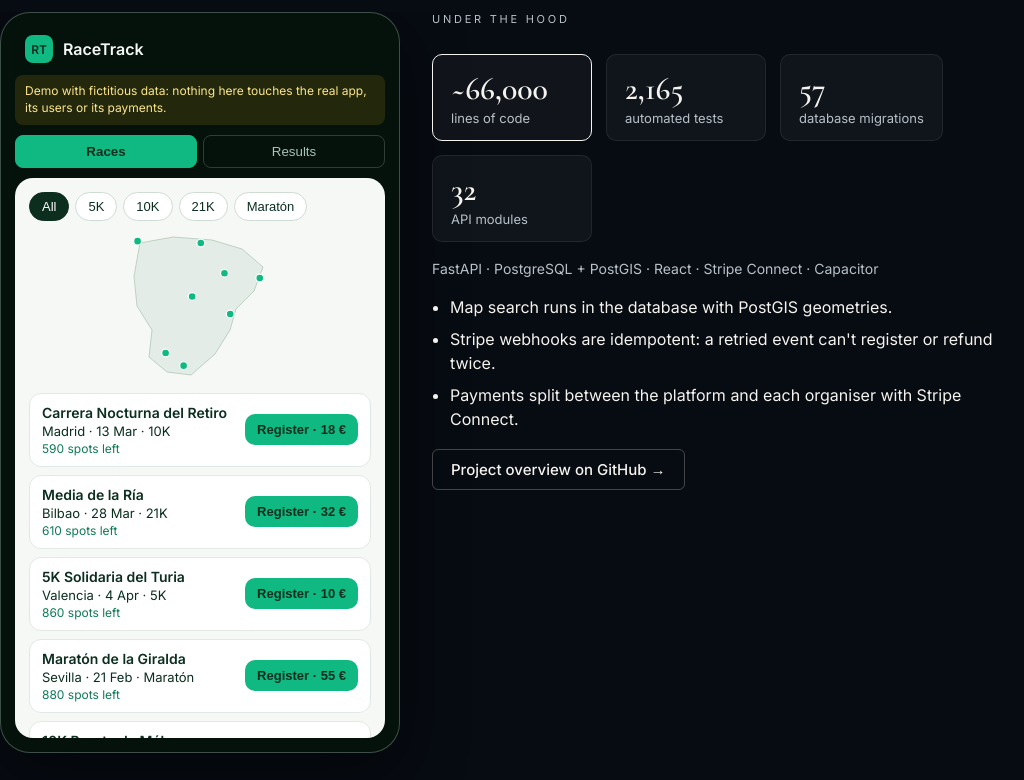
it: réplica de RaceTrack › no deja pagar sin nombre
Step 1. Click the button "Register · 18 €" → click(302, 430), box [245,414,358,445]
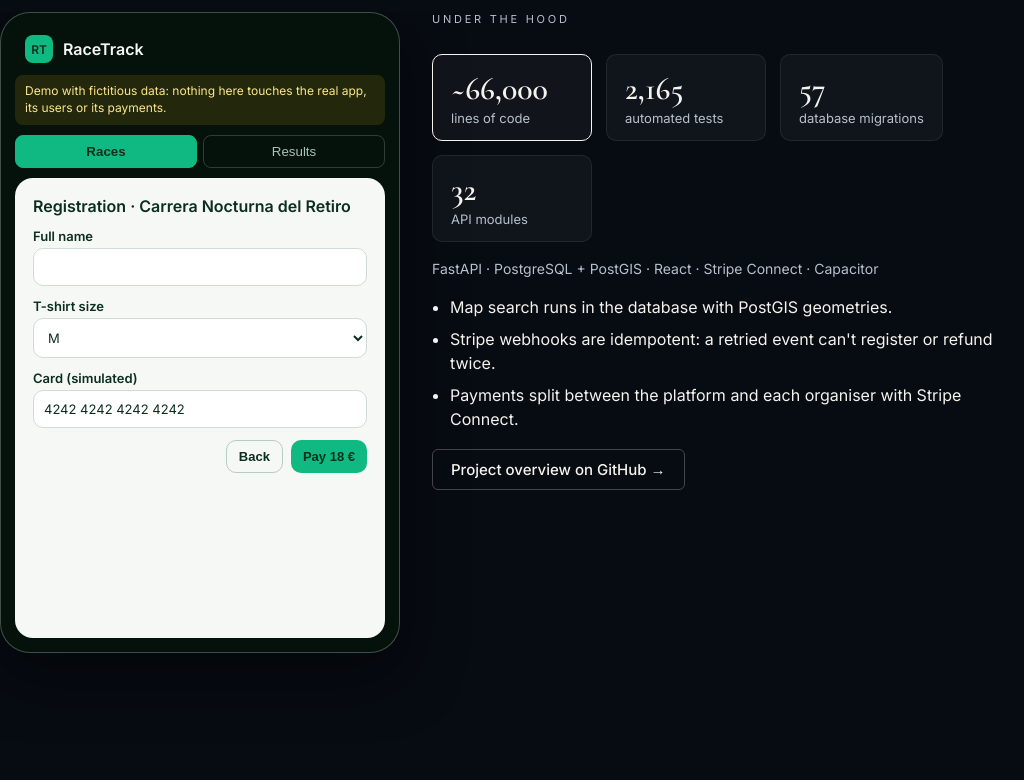
Step 2. Click the button "Pay 18 €" → click(329, 456), box [291,440,367,473]
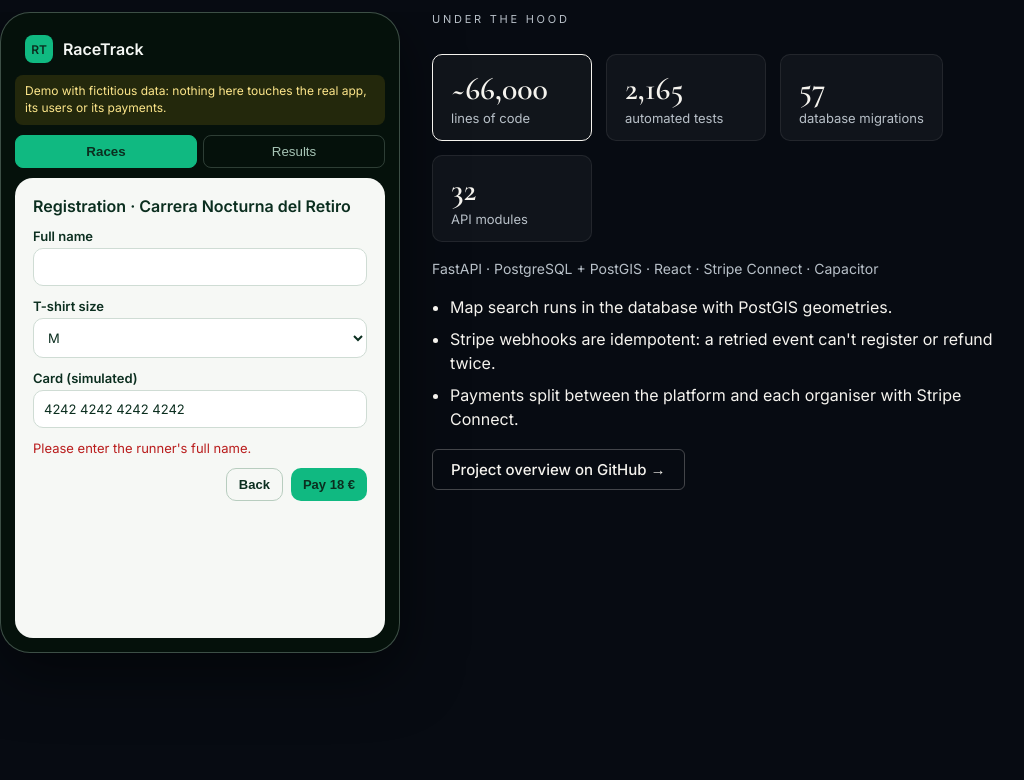
Expected: the message shows "name", [33,440,251,456]
